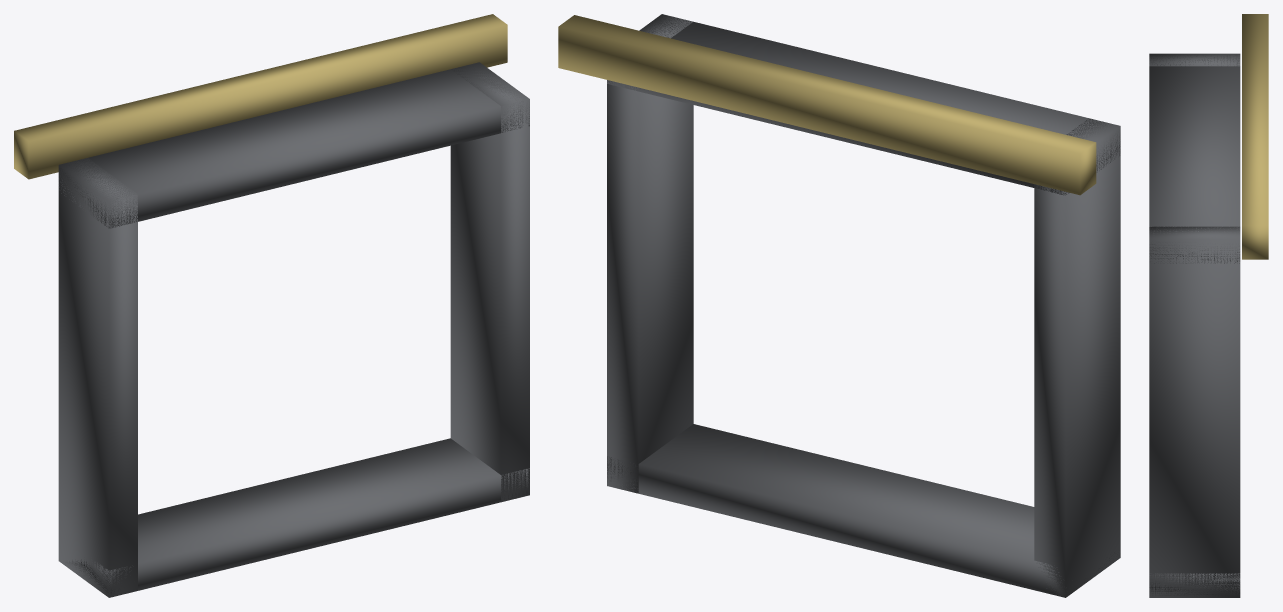
Rendered from egress_window_motel_w100_h90_s55_d24.glb.
3 renders of one model, left to right at view 1: azimuth 30°, elevation 25°; view 2: azimuth 150°, elevation 25°; view 3: azimuth 270°, elevation 25°, orthographic. The views are drawn at different scales.
Parts seen in each view (by area): view 1: world; view 2: world; view 3: world.
Boxes of the visible parts, x1=… form: world: x1=14, y1=14, x2=529, y2=597; world: x1=558, y1=14, x2=1120, y2=597; world: x1=1149, y1=14, x2=1268, y2=597.
Size of the model in its own units: 1.32 by 1.12 by 0.315.
